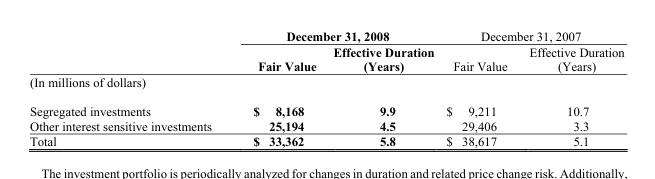table: (28, 28, 623, 147)
table column: (28, 28, 231, 147), (324, 28, 439, 147), (517, 28, 623, 147), (231, 28, 324, 147), (439, 28, 517, 147)
table column header: (28, 28, 623, 73)
table projected row header: (28, 73, 623, 96)
table row: (28, 43, 623, 73), (28, 73, 623, 96), (28, 96, 623, 118), (28, 28, 623, 43), (28, 118, 623, 133), (28, 133, 623, 147)
table spanning cell: (231, 28, 439, 43), (439, 28, 623, 43)
